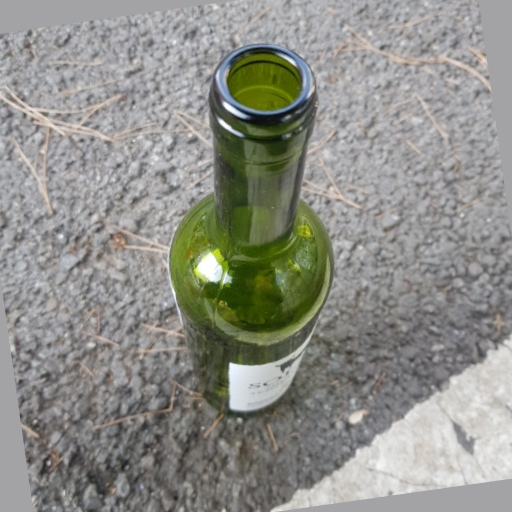Glass_2: (168, 43, 336, 418)
